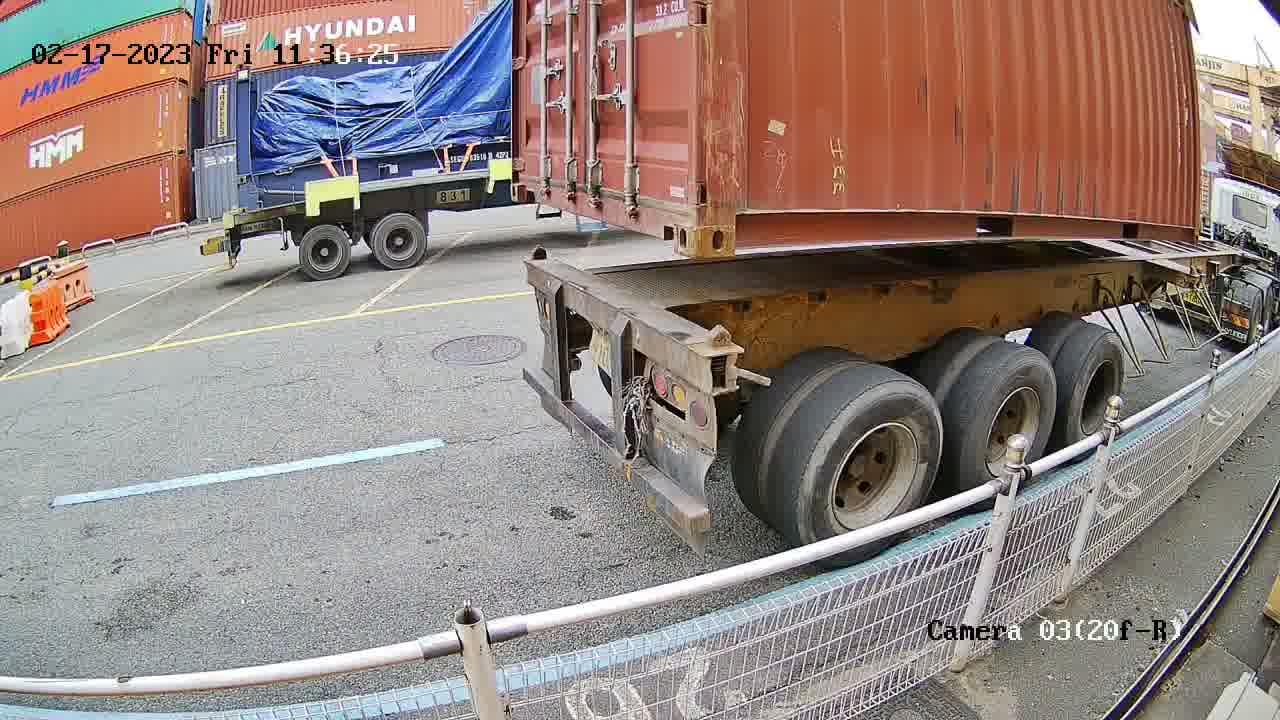Chassis: (525, 256, 743, 394)
Cone: (701, 319, 742, 389)
Hole_L: (697, 182, 766, 260), (510, 158, 544, 206), (524, 244, 550, 270)
Hole_R: (646, 173, 698, 258)
Tire: (801, 387, 940, 565), (963, 351, 1057, 506), (1068, 335, 1125, 456)
